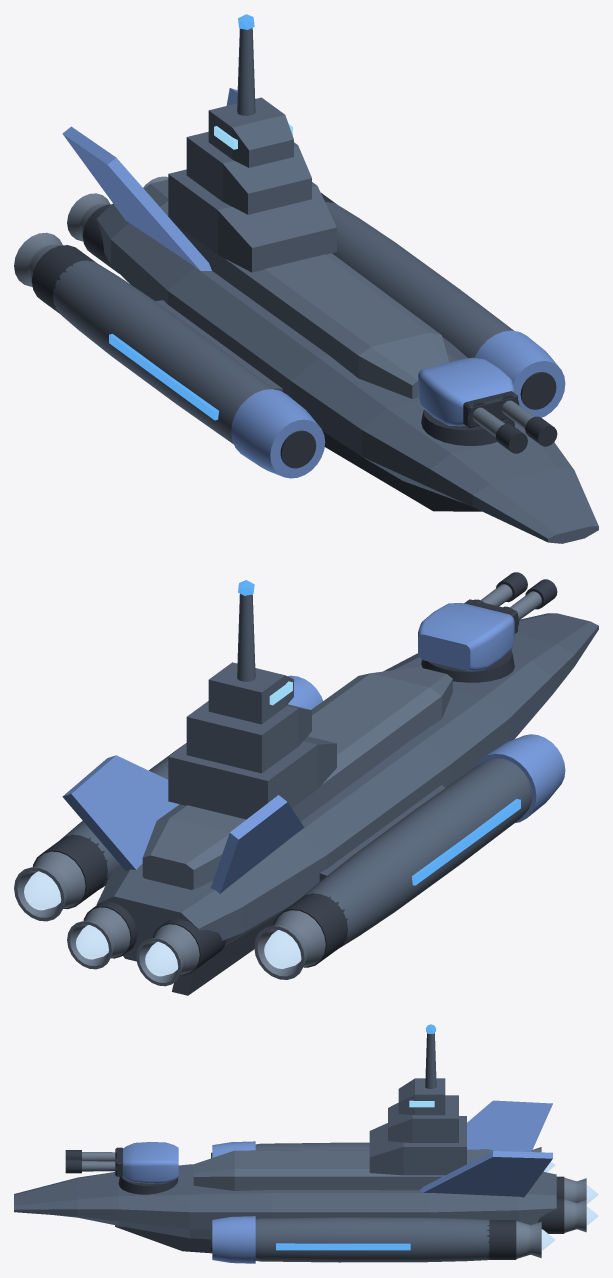
The model's file is horizon_cruiser.glb.
3 renders of one model, top to bottom at view 1: azimuth 30°, elevation 25°; view 2: azimuth 150°, elevation 25°; view 3: azimuth 270°, elevation 25°, orthographic. The views are drawn at different scales.
Parts seen in each view (by area): view 1: horizon_cruiser; view 2: horizon_cruiser; view 3: horizon_cruiser.
Part boxes in pixels (left/top/right/bottom): horizon_cruiser: left=14, top=14, right=598, bottom=543; horizon_cruiser: left=14, top=572, right=598, bottom=995; horizon_cruiser: left=14, top=1024, right=598, bottom=1263.
Size of the model in its own units: 3.01 by 3.47 by 7.81.
